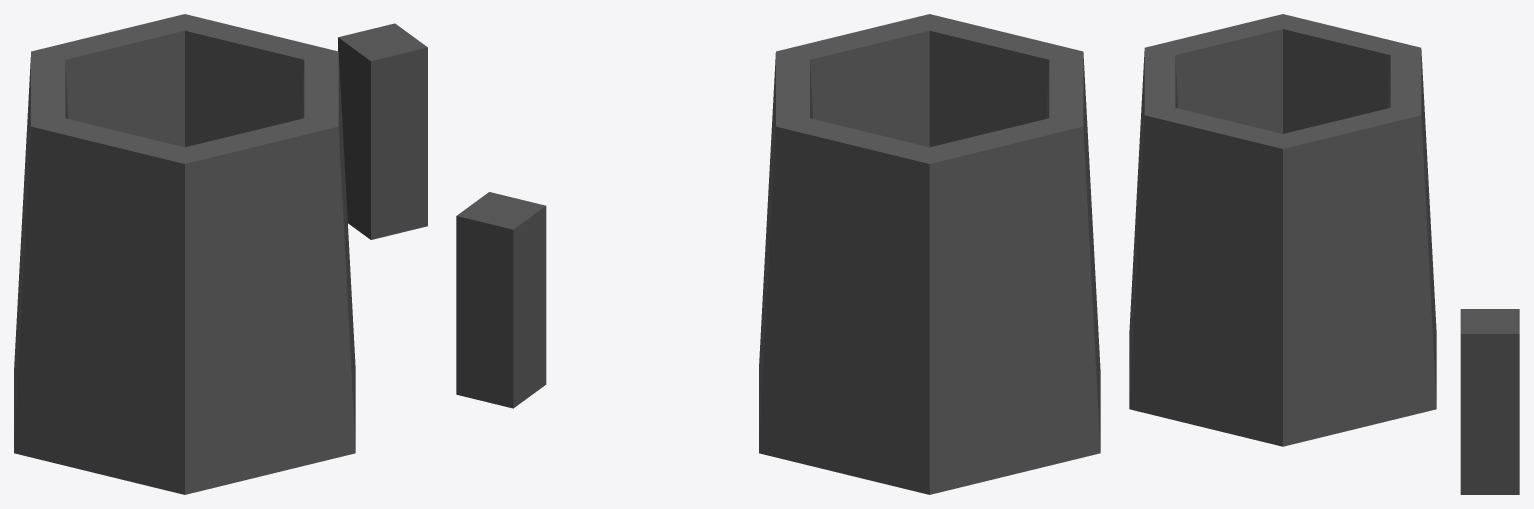
File: techoB.obj
3 renders of one model, left to right at view 1: azimuth 30°, elevation 25°; view 2: azimuth 150°, elevation 25°; view 3: azimuth 270°, elevation 25°, orthographic. The views are drawn at different scales.
Parts seen in each view (by area): view 1: Pillar.022; view 2: Pillar.022; view 3: Pillar.022.
Part boxes in pixels (box(x1,y1,x2,y2)): Pillar.022: box(14, 14, 427, 494); Pillar.022: box(456, 14, 1100, 494); Pillar.022: box(1129, 14, 1519, 494).
Bounding box in the file's own units: 9 × 5.41 × 6.6.
Materials: 2 (2 with a texture image).
